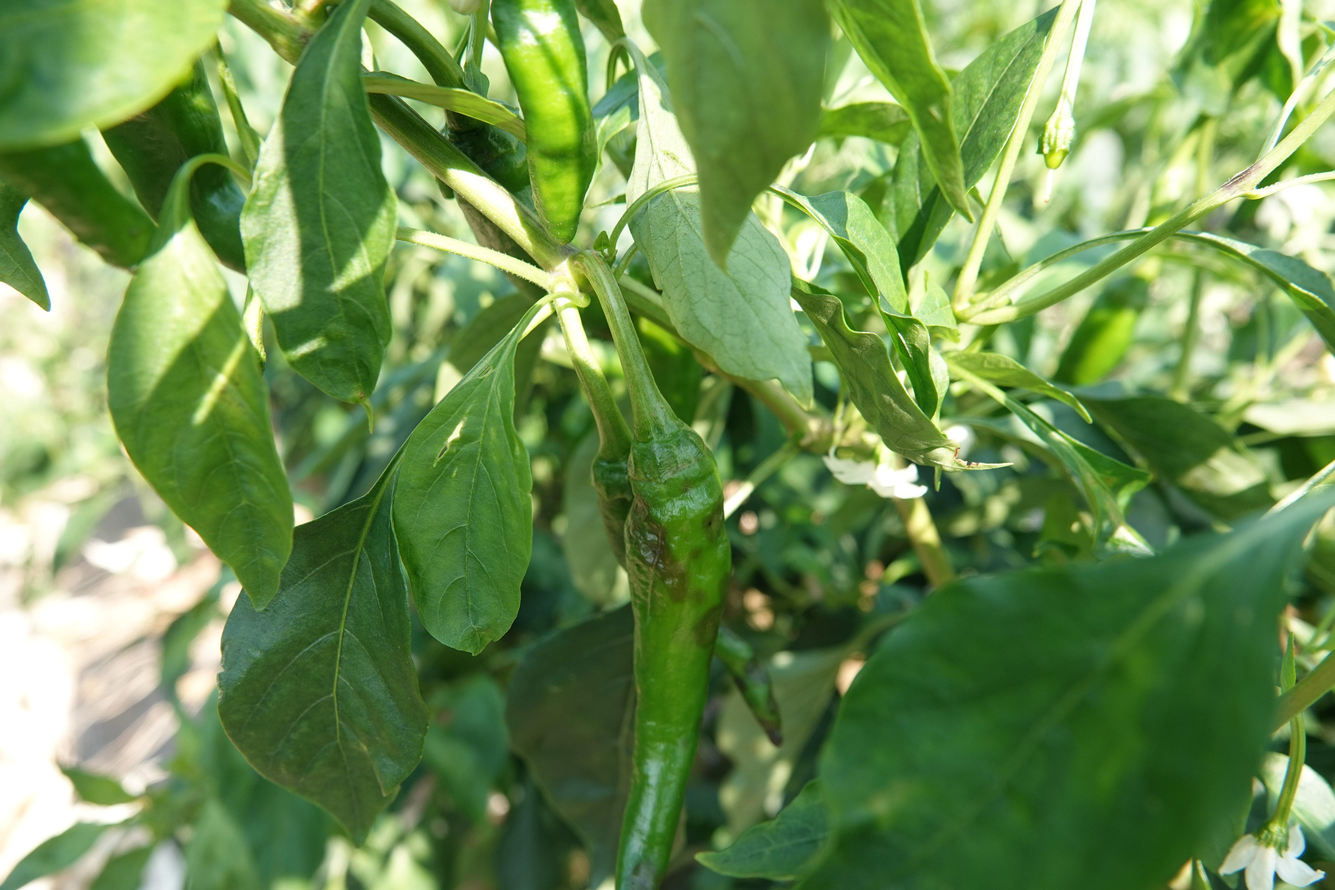Busuk Buah Antraknosa: (605, 433, 751, 890)
Daun Cabai Sehat: (790, 528, 1282, 890), (215, 494, 433, 862), (105, 216, 298, 617), (239, 15, 398, 412), (629, 98, 823, 407), (388, 345, 538, 666)
